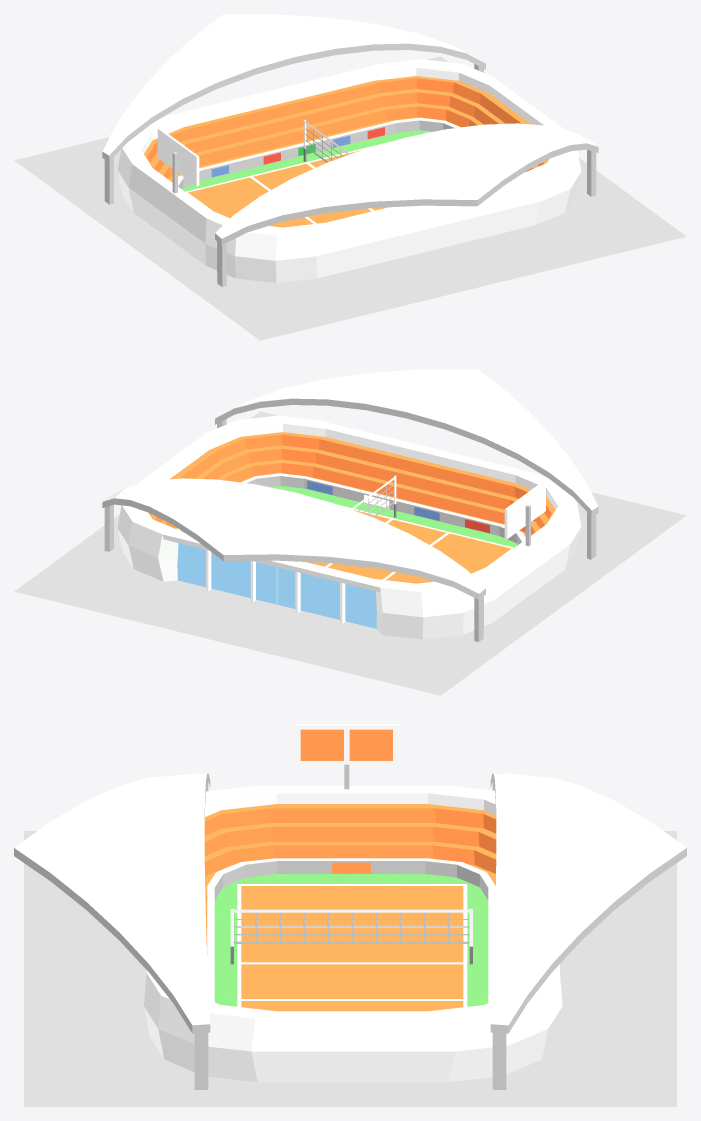
File: stadiums.002.glb
3 views of the same model, one above another, from view 1: azimuth 30°, elevation 25°; view 2: azimuth 150°, elevation 25°; view 3: azimuth 270°, elevation 25° (orthographic). The views are drawn at different scales.
Parts seen in each view (by area): view 1: stadiums.002(Clone); view 2: stadiums.002(Clone); view 3: stadiums.002(Clone).
Boxes of the visible parts, bbox=[...] form: stadiums.002(Clone): bbox=[14, 14, 686, 340]; stadiums.002(Clone): bbox=[14, 369, 686, 695]; stadiums.002(Clone): bbox=[14, 724, 686, 1106].
Bounding box in the file's own units: 16 × 3.8 × 16.49.
Materials: 1 (1 with a texture image).
